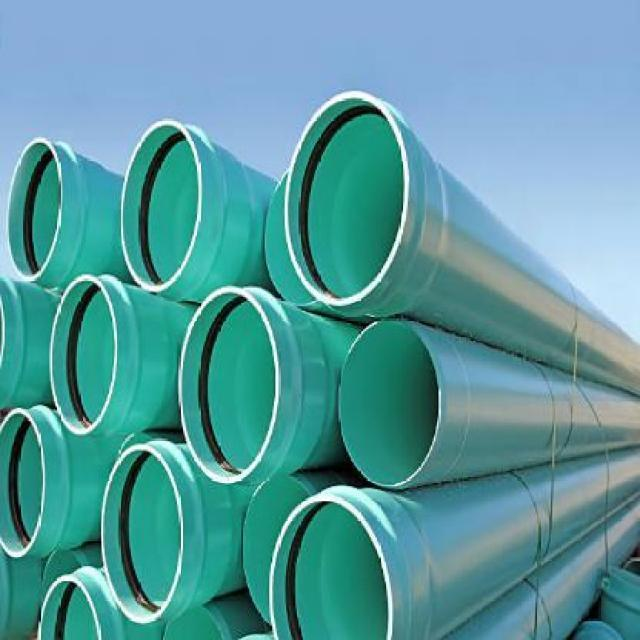pipe: (284, 90, 410, 306), (178, 287, 279, 484), (269, 494, 394, 640), (338, 320, 441, 486), (99, 445, 184, 624), (119, 120, 204, 293), (241, 473, 314, 622), (50, 279, 115, 436), (7, 138, 63, 283), (0, 409, 45, 558)
